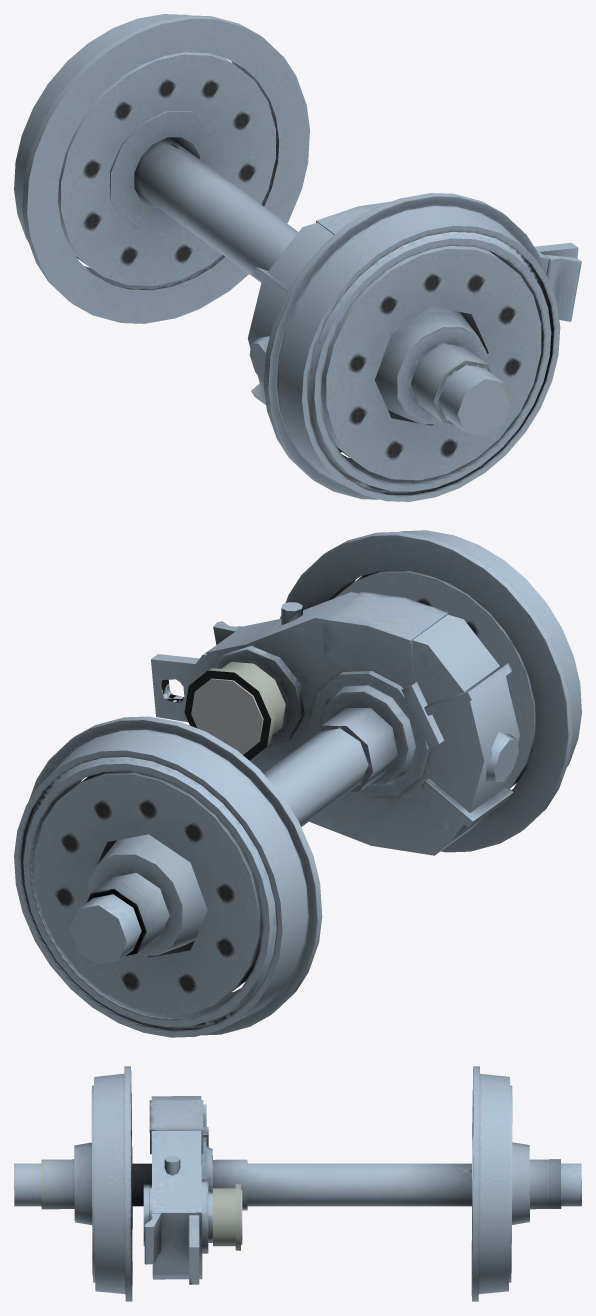
The model's file is chelun.FBX.
3 renders of one model, top to bottom at view 1: azimuth 30°, elevation 25°; view 2: azimuth 150°, elevation 25°; view 3: azimuth 270°, elevation 25°, orthographic. The views are drawn at different scales.
Visible parts, largest first — view 1: Object102; view 2: Object102; view 3: Object102.
Part boxes in pixels (x1=…): Object102: x1=14, y1=14, x2=581, y2=501; Object102: x1=14, y1=530, x2=581, y2=1037; Object102: x1=14, y1=1066, x2=581, y2=1301.
Size of the model in its own units: 1.15 by 0.9158 by 2.21.
